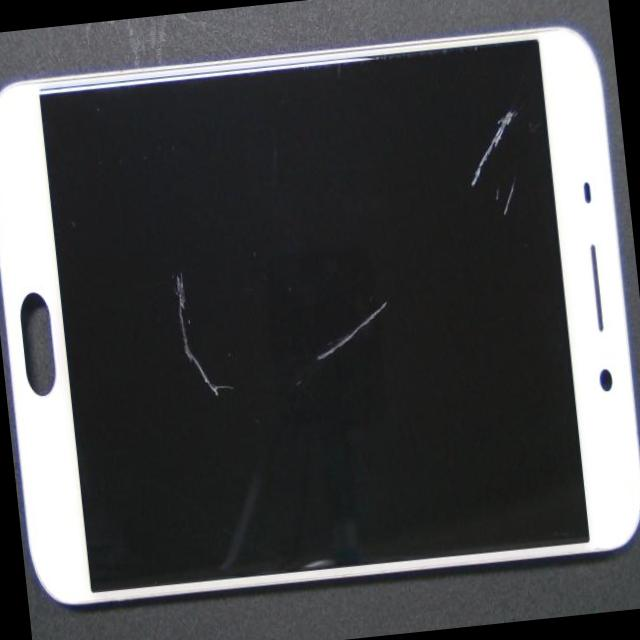scratch: (171, 268, 238, 398), (310, 296, 394, 366), (454, 102, 522, 188), (291, 546, 336, 574), (494, 184, 521, 225)
